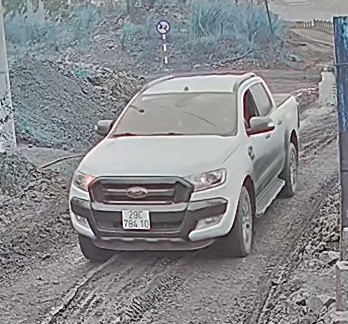vehicle plate: (119, 206, 153, 232)
